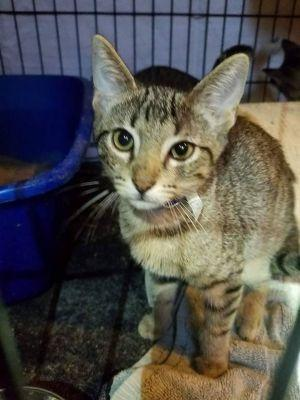bengal: (85, 27, 259, 222)
